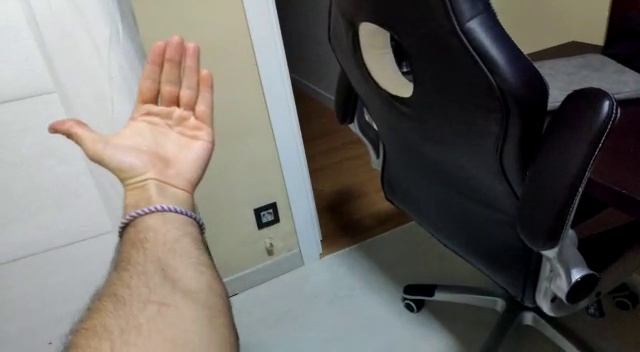Palm: (44, 32, 213, 188)
